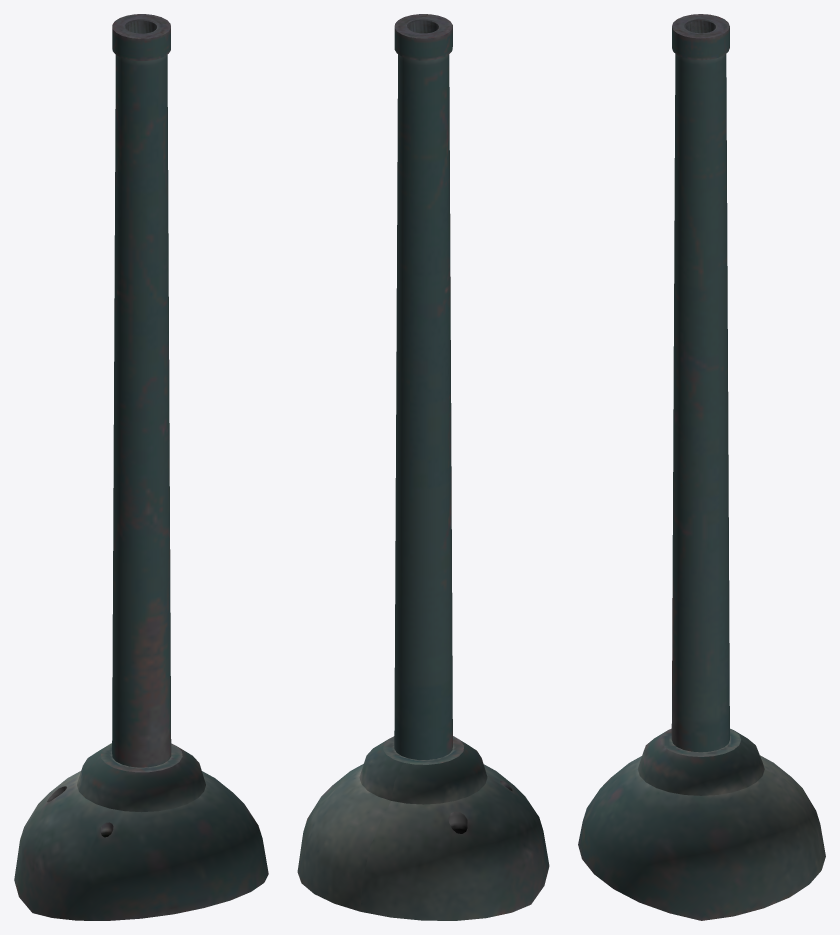
File: Gun_06.glb
3 renders of one model, left to right at view 1: azimuth 30°, elevation 25°; view 2: azimuth 150°, elevation 25°; view 3: azimuth 270°, elevation 25°, orthographic. The views are drawn at different scales.
Parts seen in each view (by area): view 1: set_0_group_0; view 2: set_0_group_0; view 3: set_0_group_0.
Part boxes in pixels (x1,y1,x2,y2): set_0_group_0: (14,14,268,920); set_0_group_0: (297,14,549,920); set_0_group_0: (578,14,825,920).
Size of the model in its own units: 0.607 by 2.29 by 0.6108.
Materials: 1 (1 with a texture image).
